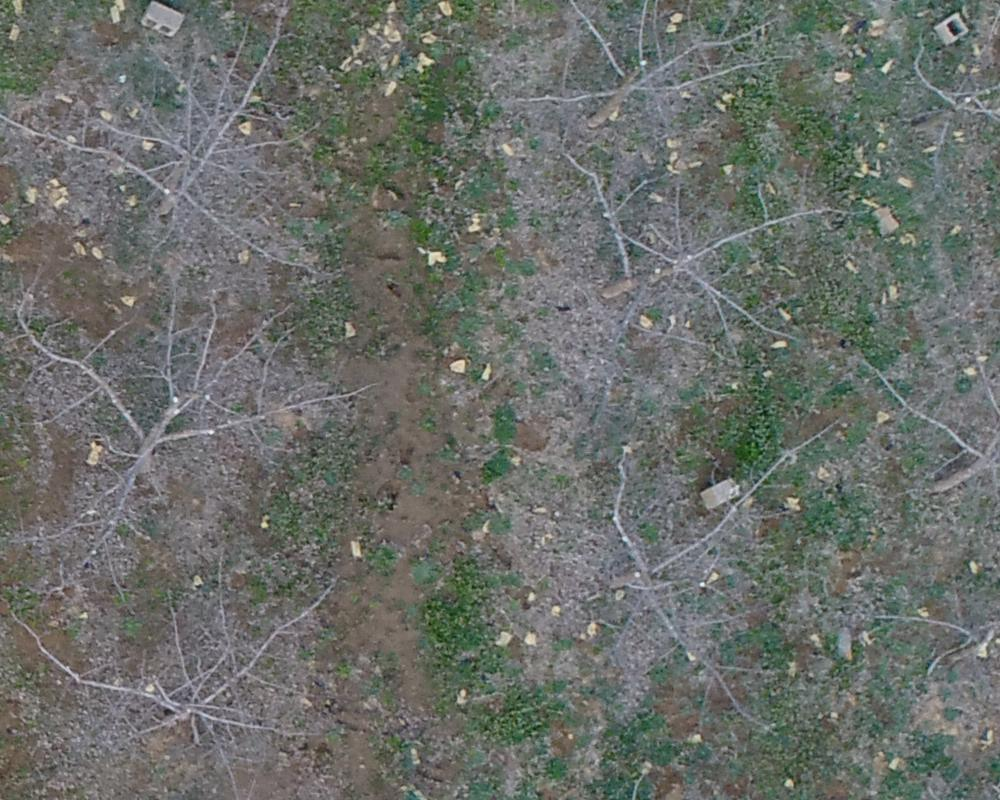apple: (10, 260, 378, 575), (10, 10, 383, 283), (522, 431, 865, 727), (22, 568, 367, 777), (543, 149, 863, 357), (504, 10, 804, 166), (864, 318, 990, 530)
